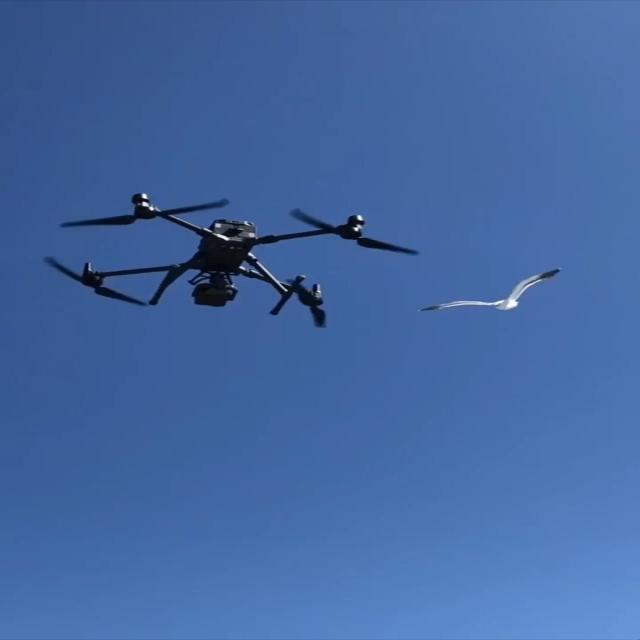bird: (417, 266, 561, 312)
drone: (42, 192, 420, 328)
